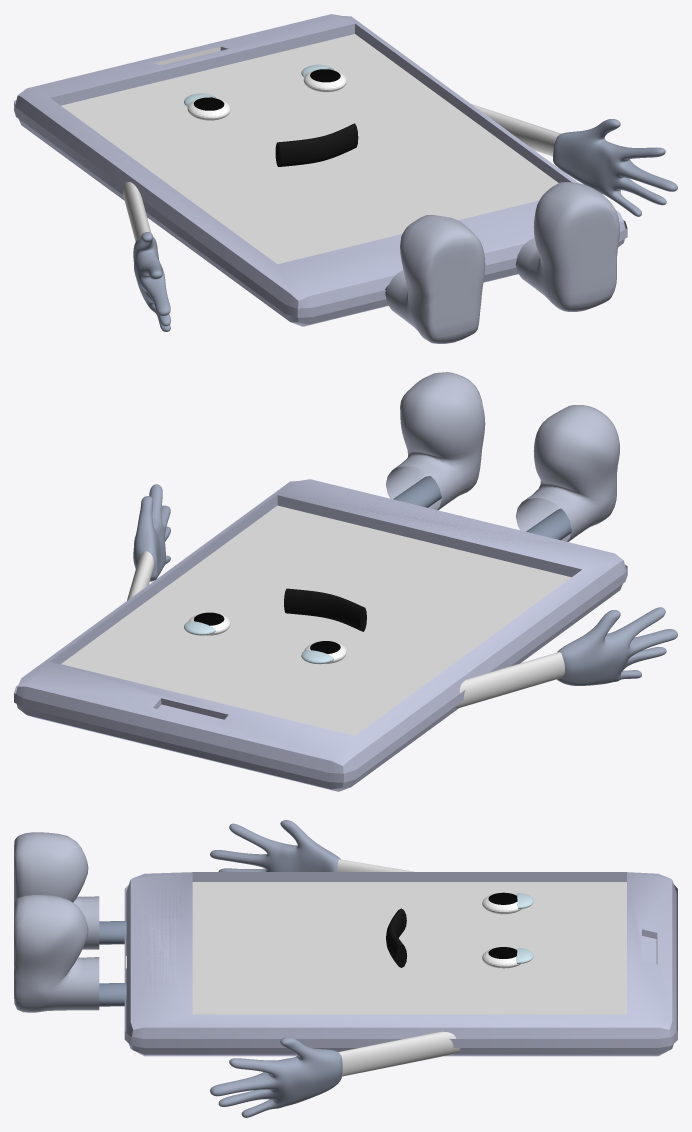
3 renders of one model, top to bottom at view 1: azimuth 30°, elevation 25°; view 2: azimuth 150°, elevation 25°; view 3: azimuth 270°, elevation 25°, orthographic. The views are drawn at different scales.
Visible parts, largest first — view 1: Cube, 円, 円.001, 円柱.001, NURBSパス, 球; view 2: Cube, 円, 円.001, 円柱.001, NURBSパス, 円柱.002, 球, 球.001; view 3: Cube, 円, 円.001, 円柱.001, 球, 円柱.002, NURBSパス, 球.001.
Part boxes in pixels (<box>): Cube: <box>14,14,627,326</box>; 円: <box>385,182,619,343</box>; 円.001: <box>133,119,677,331</box>; 円柱.001: <box>123,104,560,241</box>; NURBSパス: <box>275,123,358,166</box>; 球: <box>187,69,346,120</box>; Cube: <box>14,479,627,791</box>; 円: <box>385,372,619,541</box>; 円.001: <box>133,484,677,685</box>; 円柱.001: <box>127,551,564,708</box>; NURBSパス: <box>284,588,366,631</box>; 円柱.002: <box>393,476,571,540</box>; 球: <box>188,612,346,663</box>; 球.001: <box>184,621,333,664</box>; Cube: <box>124,872,677,1056</box>; 円: <box>14,832,99,1012</box>; 円.001: <box>210,820,342,1117</box>; 円柱.001: <box>337,859,460,1076</box>; 球: <box>482,892,521,968</box>; 円柱.002: <box>99,921,126,1006</box>; NURBSパス: <box>386,908,406,967</box>; 球.001: <box>516,893,533,963</box>.
Size of the model in its own units: 305 by 82.55 by 354.
